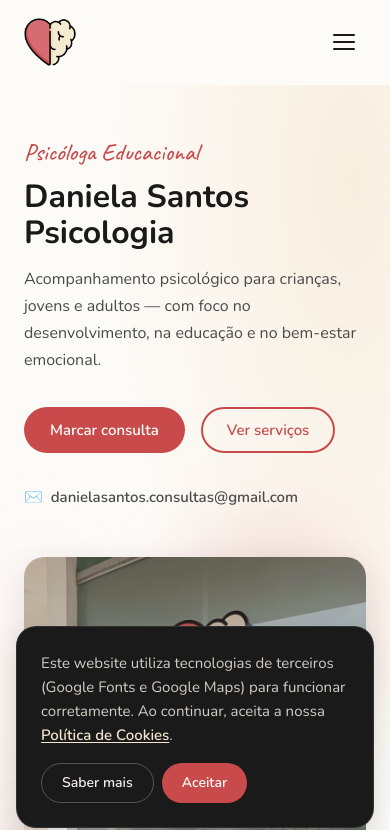
Test: App › shows PICCA forms information on the dedicated page
Step 1. Click the button named "abrir menu" → (344, 42), box [322, 20, 366, 64]
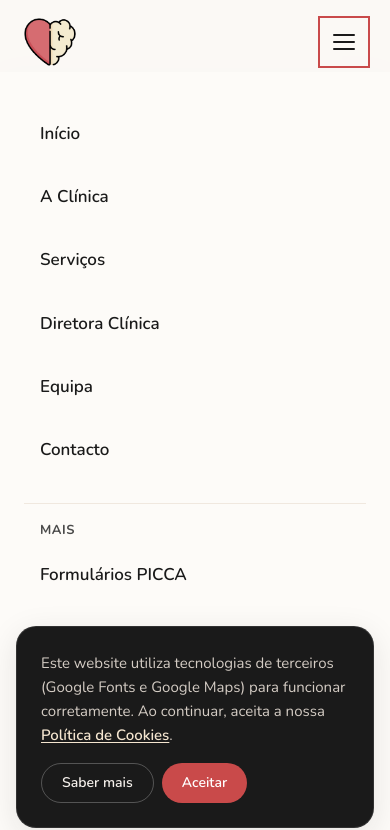
Step 2. Click the link "Formulários PICCA" → (113, 574), box [40, 563, 187, 586]
(page scrolled)
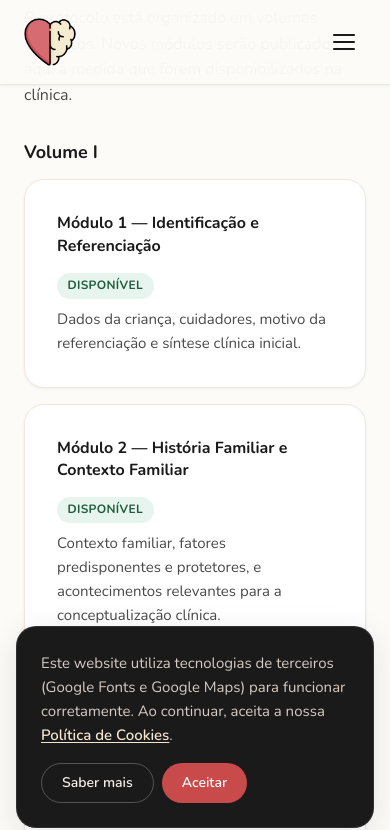
expect the text "Módulo 2 — História Familiar e Contexto Familiar" is shown: met, box [57, 436, 288, 481]
